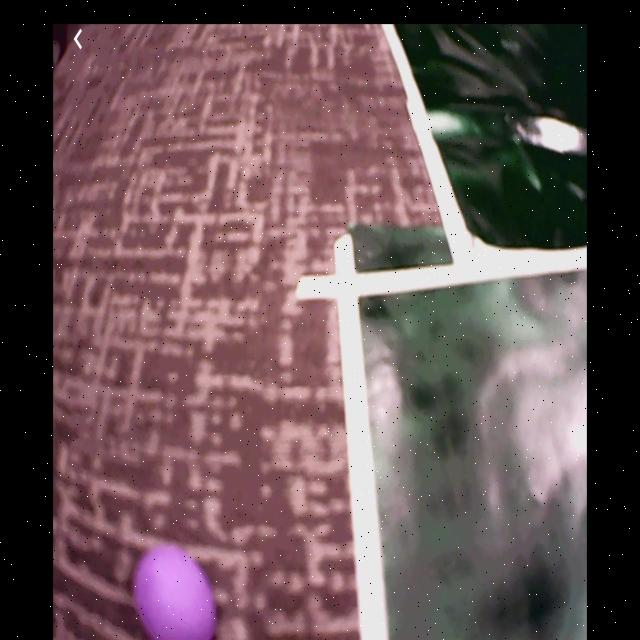ball: (133, 542, 219, 639)
